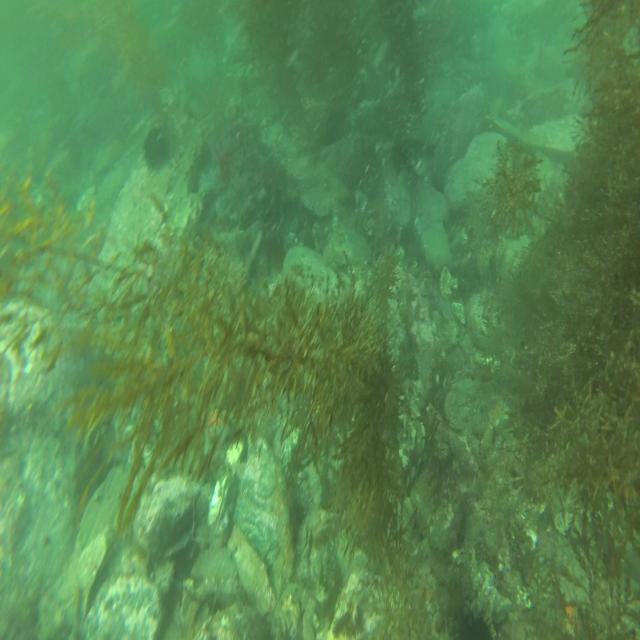echinus: (142, 122, 172, 174)
